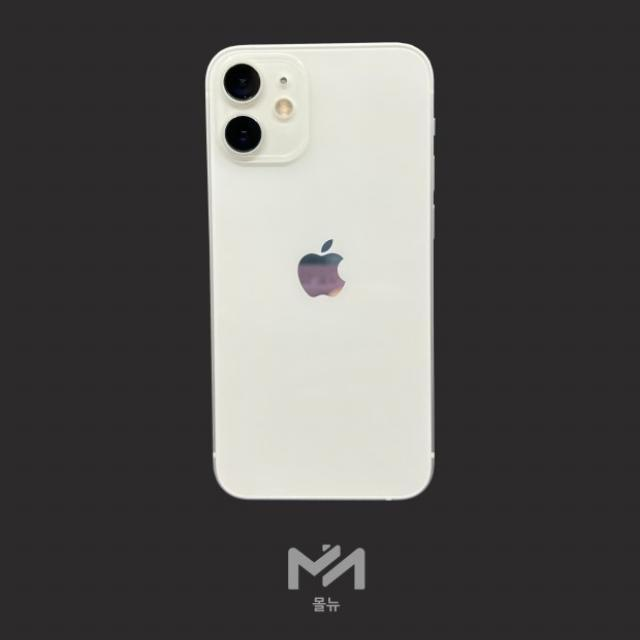phone: (203, 41, 437, 502)
